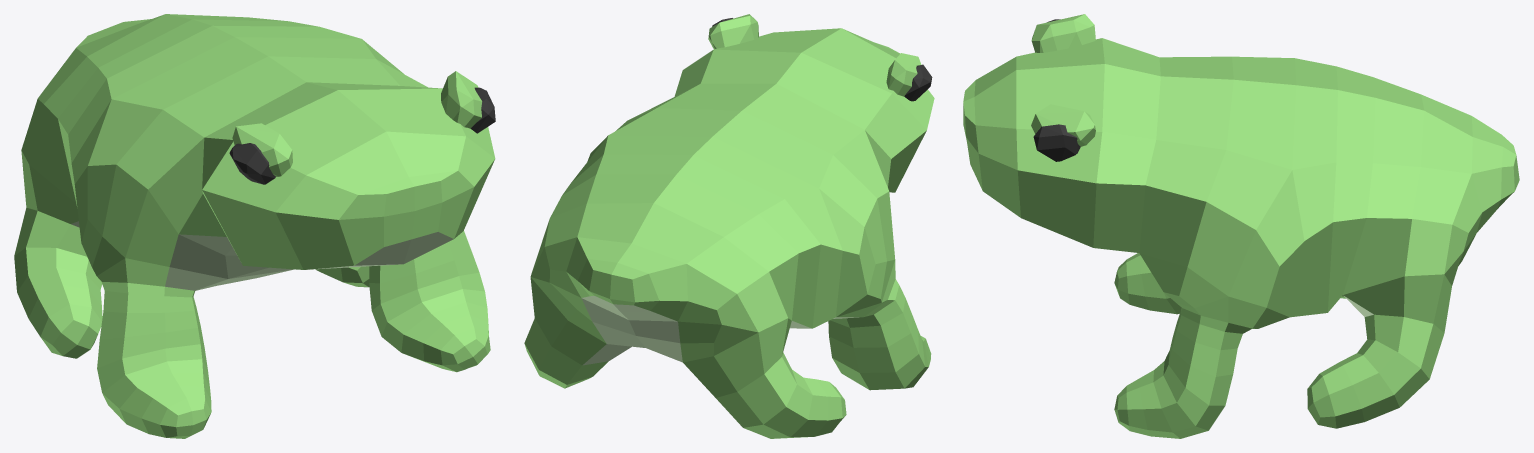
Rendered from FrogPlushie.fbx.
3 views of the same model, side by side, from view 1: azimuth 30°, elevation 25°; view 2: azimuth 150°, elevation 25°; view 3: azimuth 270°, elevation 25° (orthographic). The views are drawn at different scales.
Visible parts, largest first — view 1: Sphere; view 2: Sphere; view 3: Sphere.
Boxes of the visible parts, x1,y1,x2,y2 form: Sphere: (14,14,495,438); Sphere: (524,14,934,438); Sphere: (963,14,1519,438).
Size of the model in its own units: 274 by 229 by 375.
